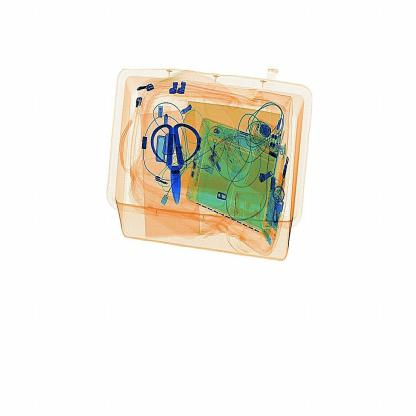gun: (146, 109, 210, 217)
